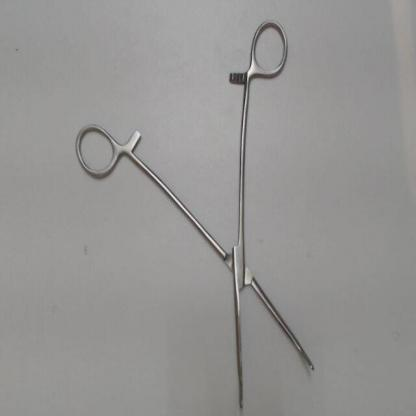Lahey Forceps: (67, 12, 324, 414)
